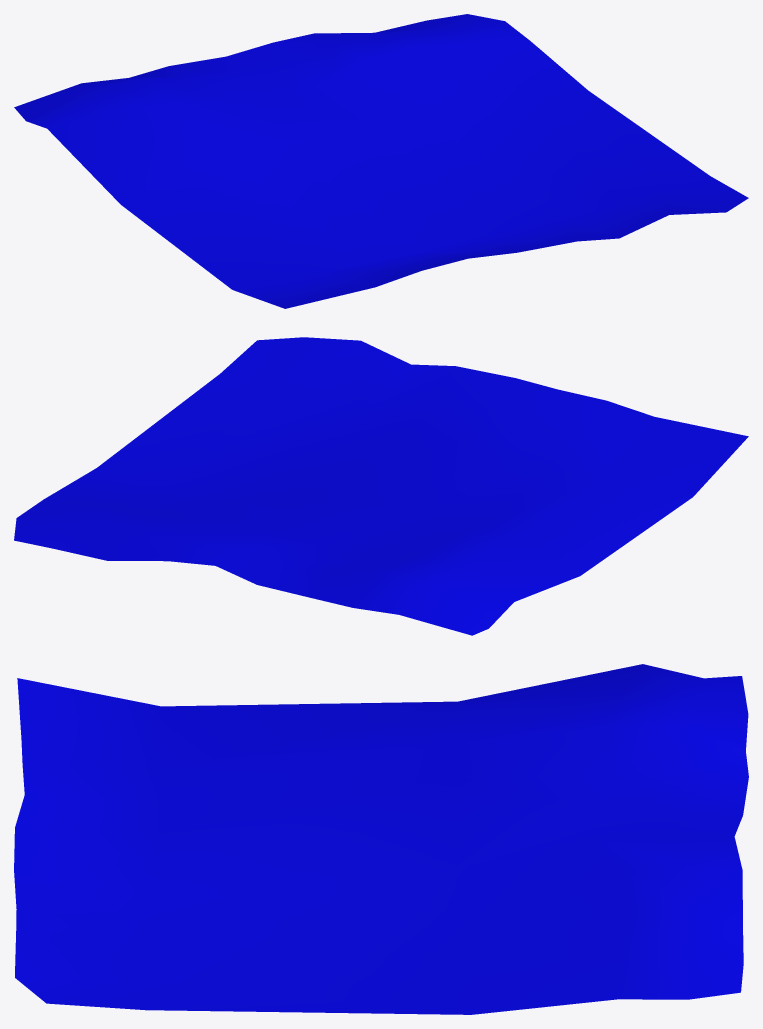
File: CavernFloorCollider.fbx
The picture shows the model from 3 angles, top to bottom: view 1: azimuth 30°, elevation 25°; view 2: azimuth 150°, elevation 25°; view 3: azimuth 270°, elevation 25°; orthographic projection. The views are drawn at different scales.
Parts seen in each view (by area): view 1: FloorLP:Group22562; view 2: FloorLP:Group22562; view 3: FloorLP:Group22562.
Boxes of the visible parts, left/top/right/bottom form: FloorLP:Group22562: left=14, top=14, right=748, bottom=308; FloorLP:Group22562: left=14, top=337, right=748, bottom=635; FloorLP:Group22562: left=14, top=664, right=748, bottom=1014.
Size of the model in its own units: 20.97 by 1.96 by 20.99.
